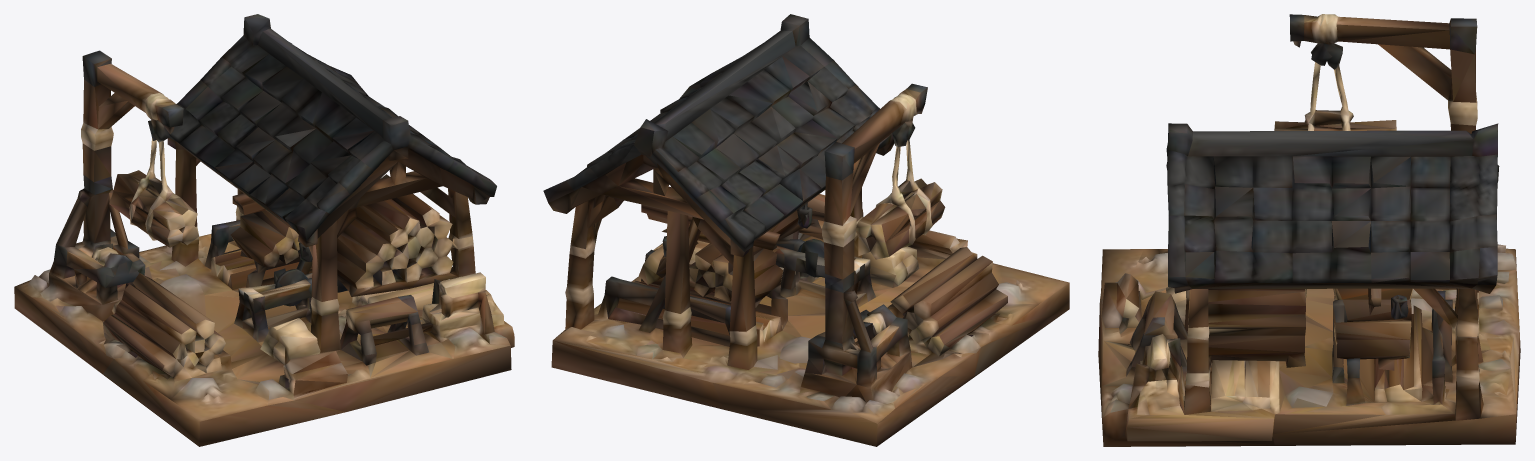
Rendered from lumber_t3.glb.
3 renders of one model, left to right at view 1: azimuth 30°, elevation 25°; view 2: azimuth 150°, elevation 25°; view 3: azimuth 270°, elevation 25°, orthographic. The views are drawn at different scales.
Visible parts, largest first — view 1: tripo_node_d4cf3e1f-60b1-49b3-90d7-cffa8730aaee; view 2: tripo_node_d4cf3e1f-60b1-49b3-90d7-cffa8730aaee; view 3: tripo_node_d4cf3e1f-60b1-49b3-90d7-cffa8730aaee.
Boxes of the visible parts, x1=… form: tripo_node_d4cf3e1f-60b1-49b3-90d7-cffa8730aaee: x1=14, y1=14, x2=514, y2=446; tripo_node_d4cf3e1f-60b1-49b3-90d7-cffa8730aaee: x1=543, y1=14, x2=1069, y2=446; tripo_node_d4cf3e1f-60b1-49b3-90d7-cffa8730aaee: x1=1098, y1=14, x2=1520, y2=446.
Bounding box in the file's own units: 0.9788 × 0.7457 × 0.968.
1 material, 1 textured.
